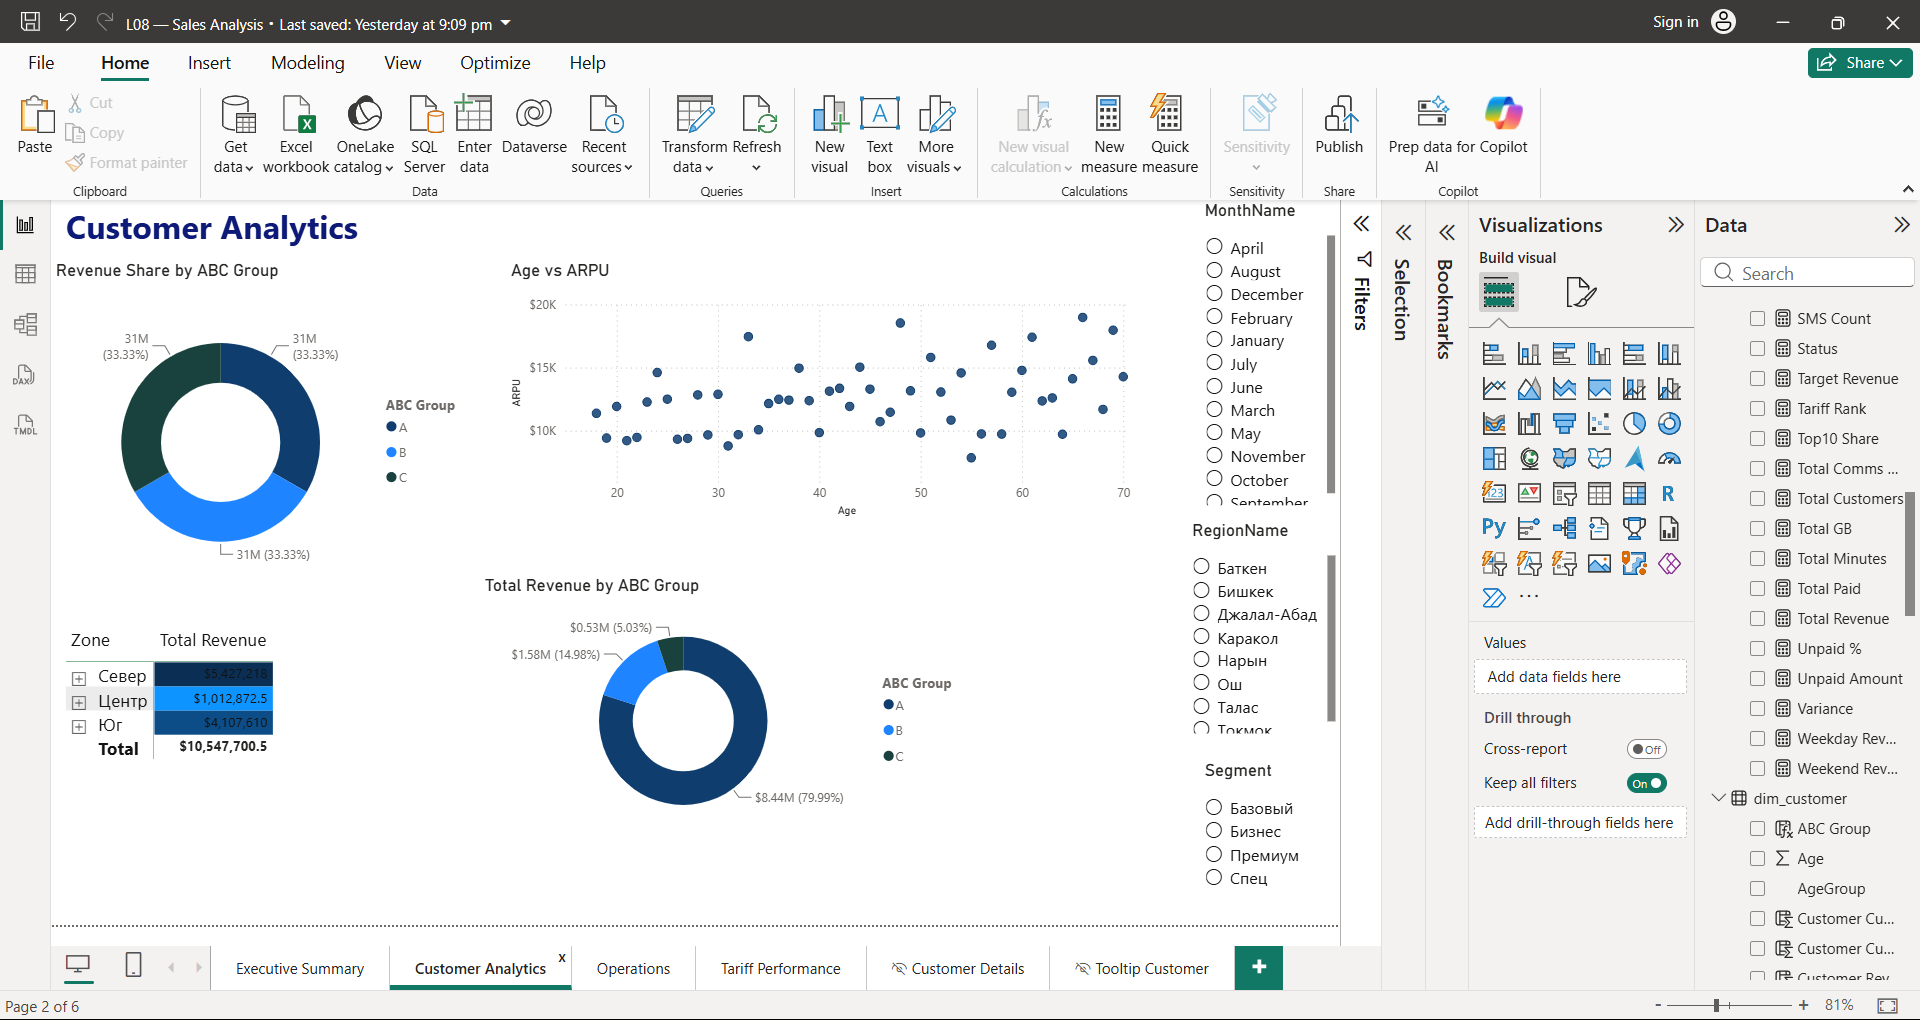

The dashboard page shown, as its layout file describes it:
{"tool":"powerbi","page":{"name":"Customer Analytics","canvas":[1280,720],"ordinal":0},"visuals":[{"type":"textbox","box":[9.6,0,304.6,100.2],"z":0},{"type":"listSlicer","fields":{"Values":["dim_date.MonthName"]},"box":[1140.3,0,140,308.7],"z":1},{"type":"listSlicer","fields":{"Values":["dim_region.RegionName"]},"box":[1128,318.4,152.3,218.2],"z":2},{"type":"listSlicer","fields":{"Values":["dim_tariff.Segment"]},"box":[1140.3,555.7,140,149.6],"z":3},{"type":"donutChart","title":"Revenue Share by ABC Group","fields":{"Category":["dim_customer.ABC Group"],"Y":["_Measures.Target Revenue"]},"box":[0,59,425.4,332.1],"z":4},{"type":"scatterChart","title":"Age vs ARPU","fields":{"X":["dim_customer.Age"],"Y":["_Measures.ARPU"]},"box":[451.5,59,629.8,259.3],"z":5},{"type":"pivotTable","fields":{"Rows":["dim_region.Zone","dim_region.RegionID","dim_tariff.Segment"],"Values":["_Measures.Total Revenue"]},"box":[9.6,418.5,230.5,167.4],"z":6},{"type":"donutChart","fields":{"Category":["dim_customer.ABC Group"],"Y":["_Measures.Total Revenue"]},"box":[425.4,371.9,492.6,259.3],"z":7}]}

Visuals, with their boxes on the page's 1280x720 design canvas (x1, y1, x2, y2). These are canvas units, not pixel positions in the 1920x1020 screenshot, which may show the page scaled, cropped or inside an application window:
textbox: 10,0,314,100
listSlicer - dim_date.MonthName: 1140,0,1280,309
listSlicer - dim_region.RegionName: 1128,318,1280,537
listSlicer - dim_tariff.Segment: 1140,556,1280,705
"Revenue Share by ABC Group" donutChart: 0,59,425,391
"Age vs ARPU" scatterChart: 452,59,1081,318
pivotTable - dim_region.Zone x dim_region.RegionID: 10,418,240,586
donutChart - dim_customer.ABC Group x _Measures.Total Revenue: 425,372,918,631
